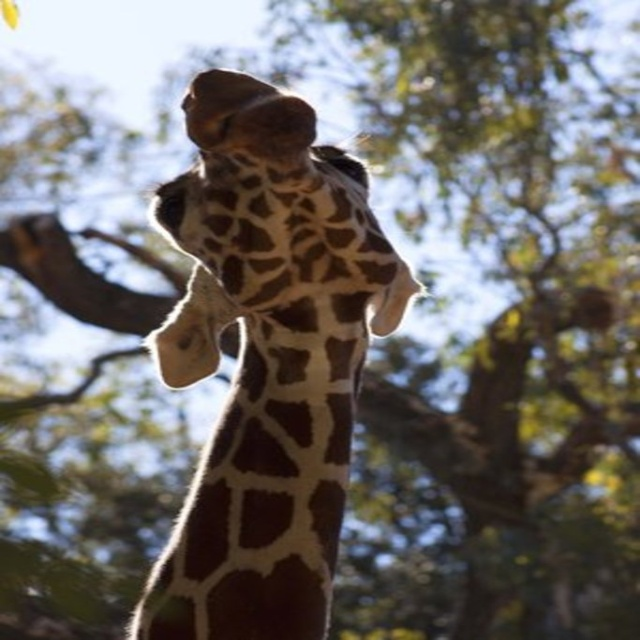Giraffe: (132, 74, 427, 639)
